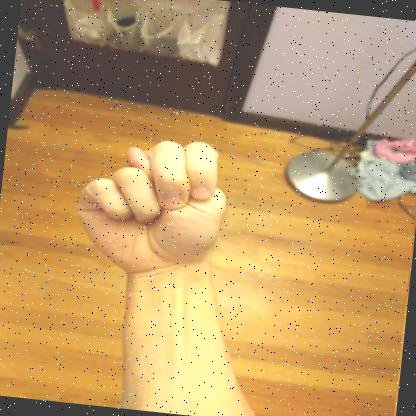N: (75, 140, 226, 272)
